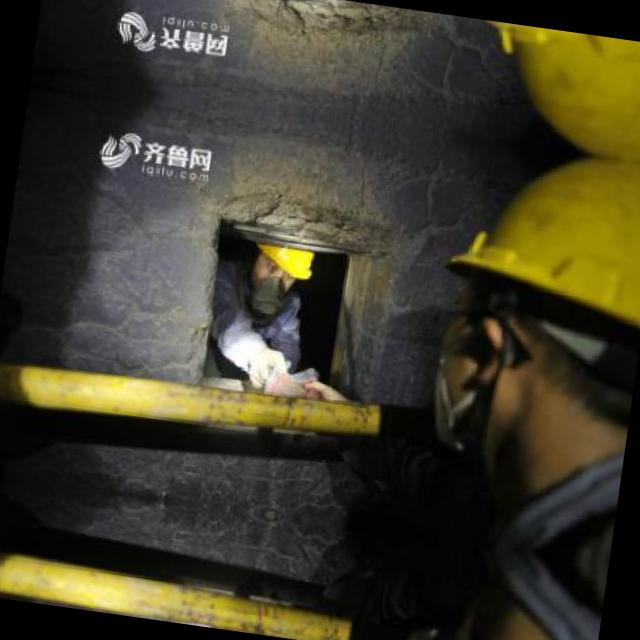helmet: (418, 137, 640, 524), (468, 20, 640, 166), (396, 570, 603, 640), (250, 239, 318, 292)
